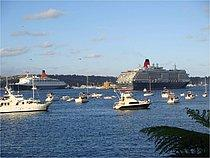Ship: (117, 67, 194, 90), (1, 90, 50, 114), (8, 73, 69, 91), (113, 91, 153, 113), (75, 93, 91, 106), (168, 96, 181, 106)
